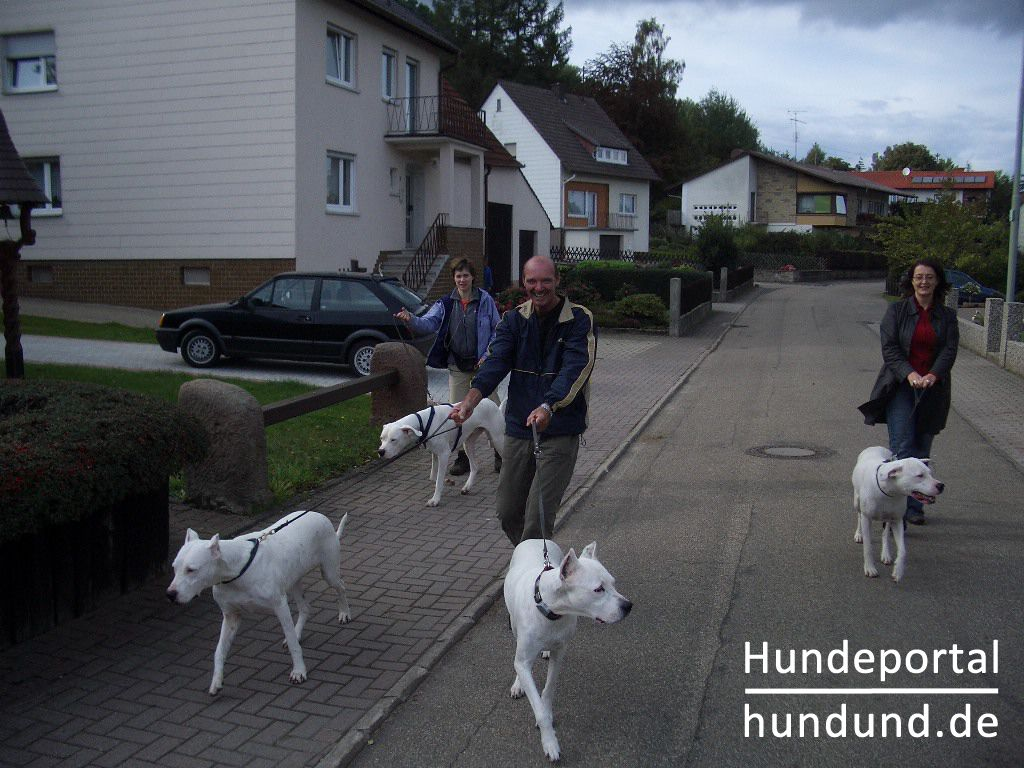dogo_argentino: (164, 509, 350, 696), (502, 537, 632, 763), (376, 399, 505, 507), (851, 445, 945, 582)
human_face: (522, 260, 559, 307), (910, 264, 938, 298), (455, 268, 472, 291)
person: (447, 254, 597, 545), (857, 259, 958, 529), (392, 258, 504, 475)
